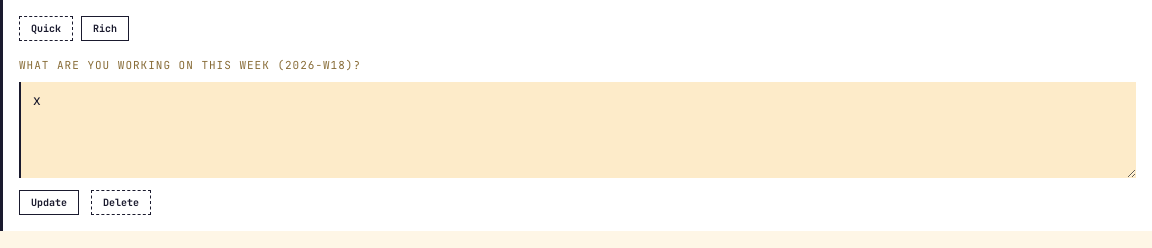
Test case: StatusEditor › shows error on delete failure
The image size is (1152, 248).
Click the button "Delete": click(121, 202) [91,190,151,214]
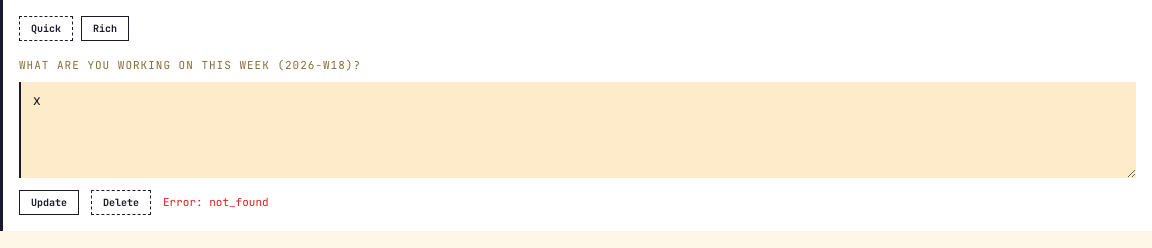
expect the text "Error: not_found" is shown: met, box [163,194,269,210]
